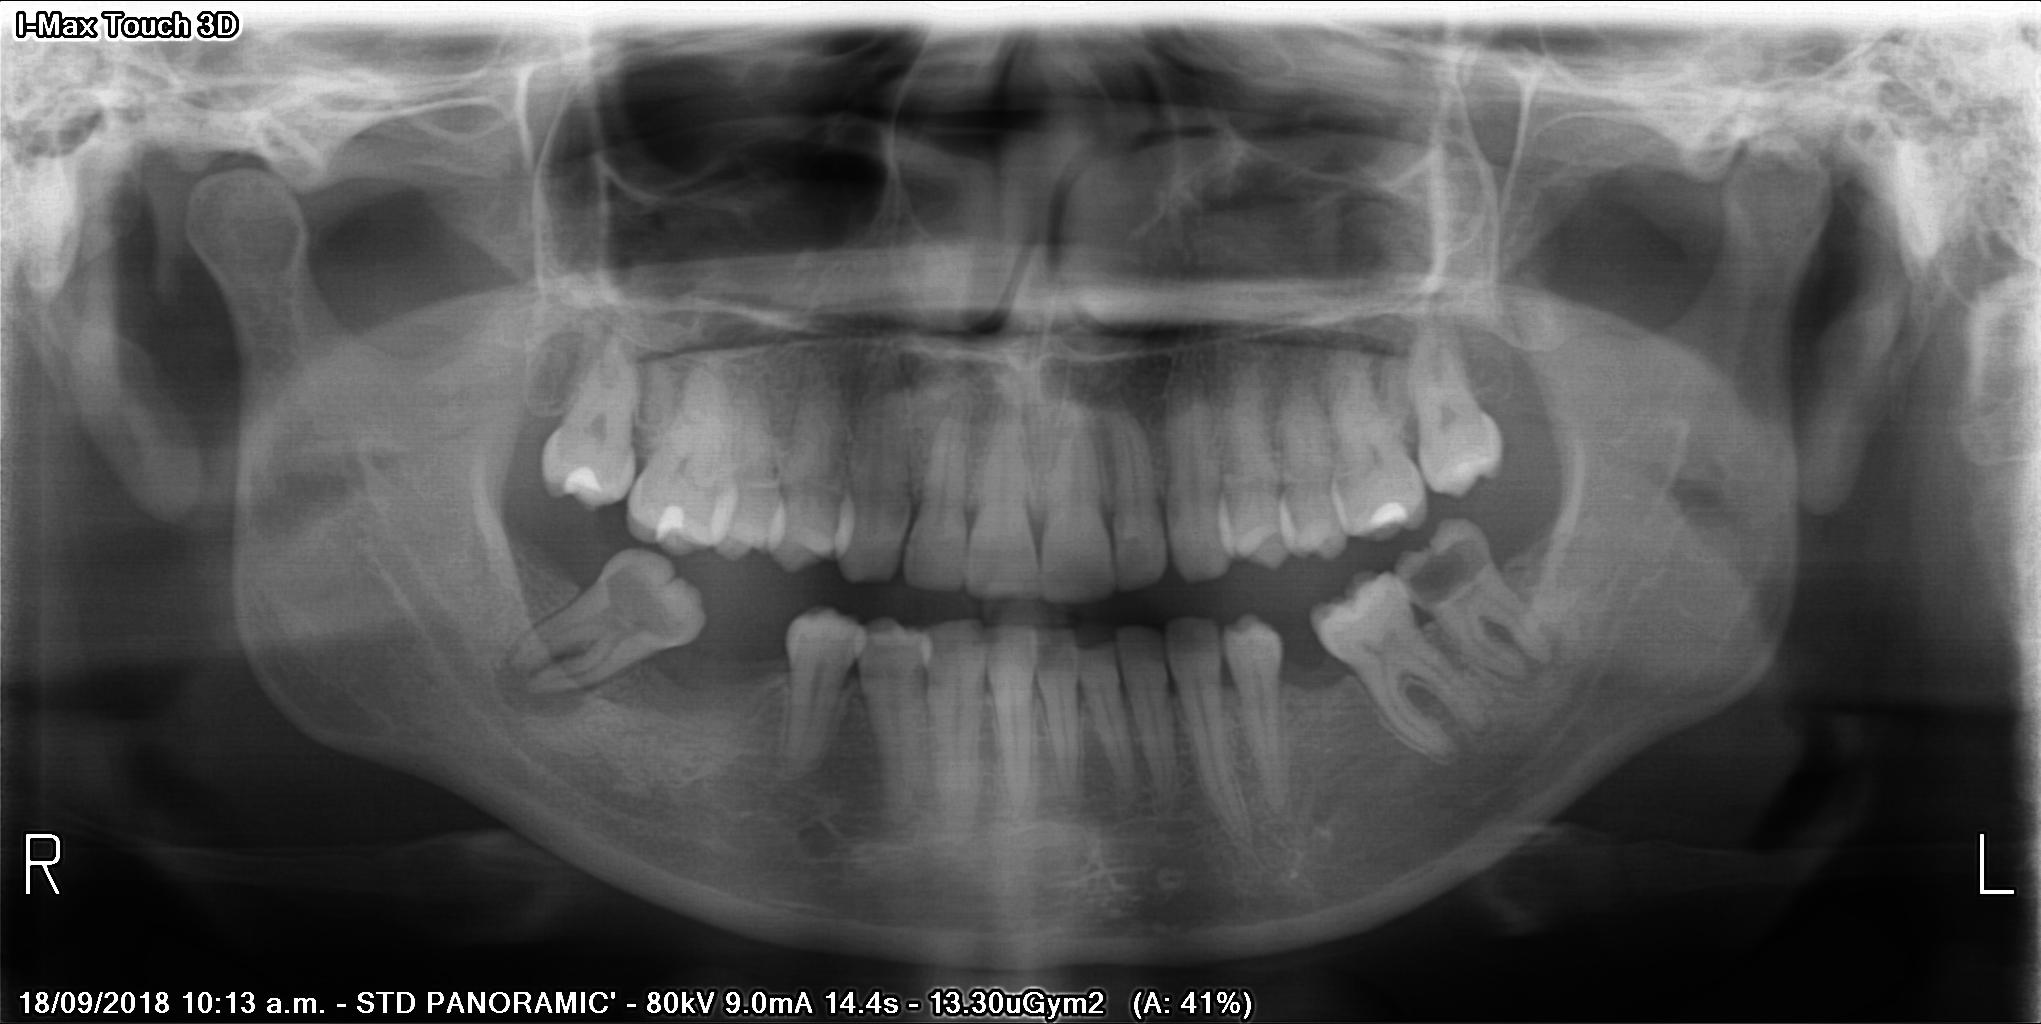Çürük: (641, 499, 710, 547), (1358, 498, 1429, 533), (563, 462, 610, 503)
Çürük Bölgesi: (601, 554, 691, 644), (1397, 534, 1489, 597)
